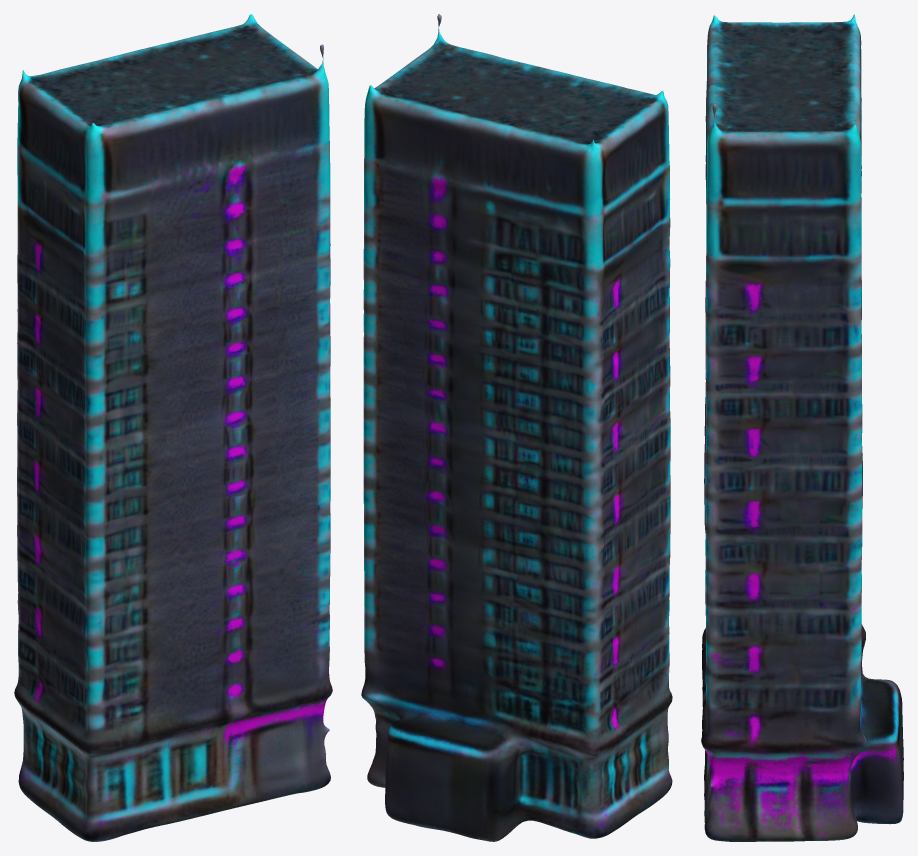
Rendered from eaffaf7f2942_a_tall__minimalist_futuristic_sk.glb.
The picture shows the model from 3 angles, left to right: view 1: azimuth 30°, elevation 25°; view 2: azimuth 150°, elevation 25°; view 3: azimuth 270°, elevation 25°; orthographic projection. The views are drawn at different scales.
Parts seen in each view (by area): view 1: geometry_0; view 2: geometry_0; view 3: geometry_0.
Boxes of the visible parts, left/top/right/bottom form: geometry_0: left=14, top=14, right=332, bottom=841; geometry_0: left=361, top=14, right=672, bottom=841; geometry_0: left=701, top=14, right=903, bottom=841.
Size of the model in its own units: 0.1983 by 0.5747 by 0.1421.
Materials: 1 (1 with a texture image).
